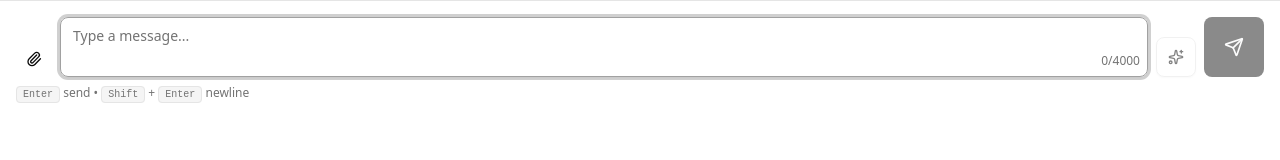
ChatInput › enables optimize button when input has text
This screenshot has width=1280, height=160.
Type "Test" into the text box. click: point(604, 47)
box: [60, 17, 1148, 77]
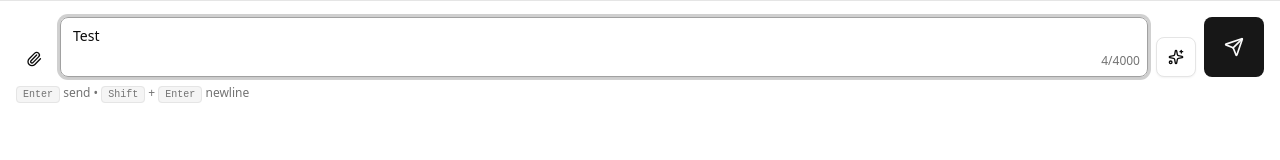
Result: the button named "Optimize prompt" is enabled at [1156, 37, 1196, 77]
